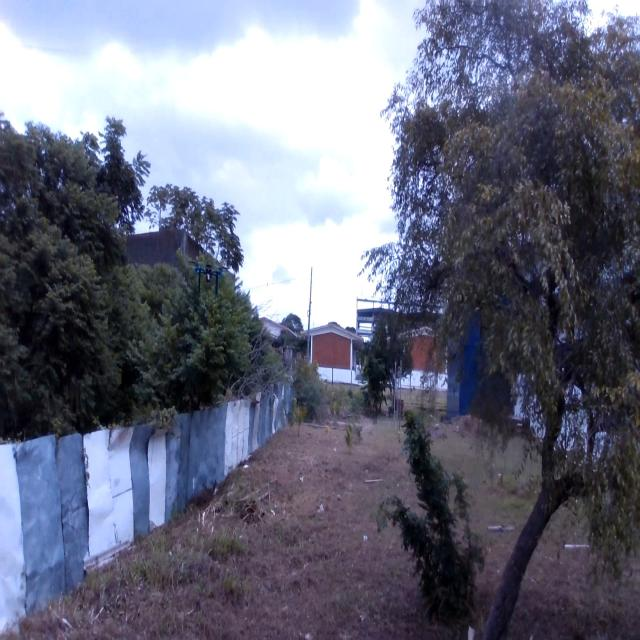-uav-: (189, 258, 224, 301)
